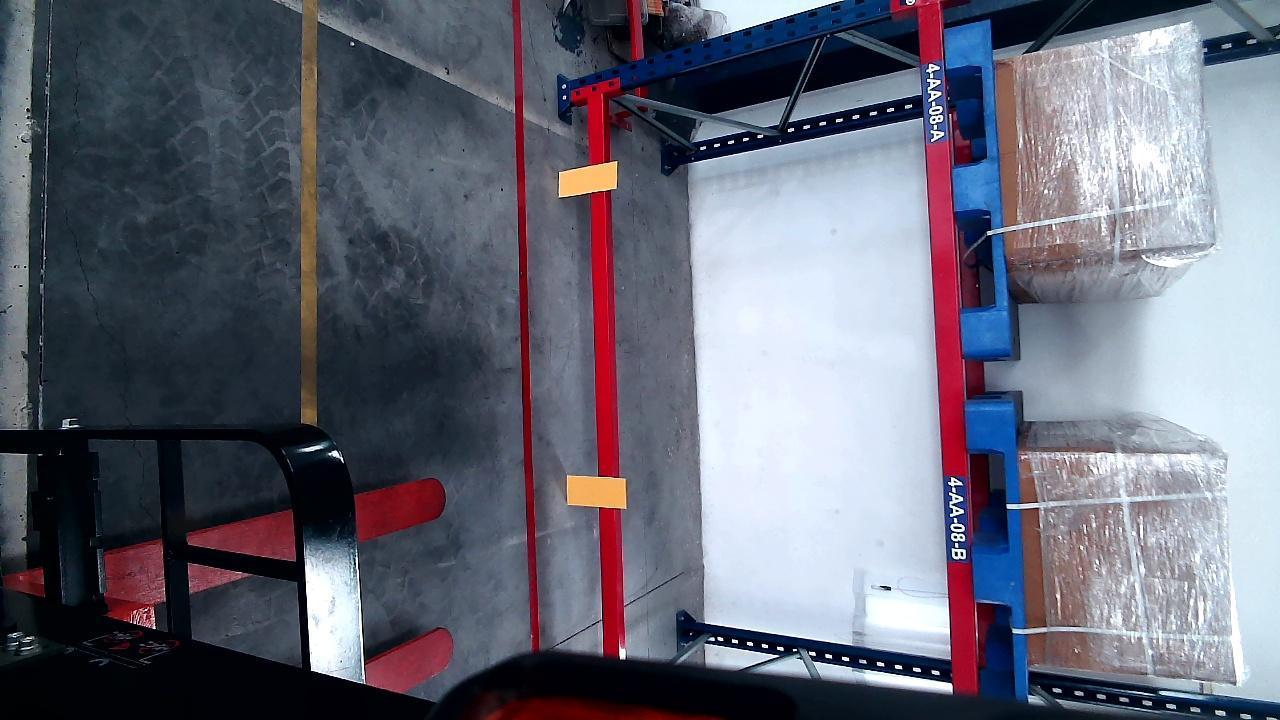h_rack: (918, 10, 978, 685), (585, 90, 622, 653)
orange_strip: (566, 474, 627, 508), (558, 161, 617, 196)
red_line: (512, 2, 541, 645)
small_pallet: (947, 22, 1012, 362), (968, 405, 1035, 688)
yellow_line: (297, 0, 321, 426)
